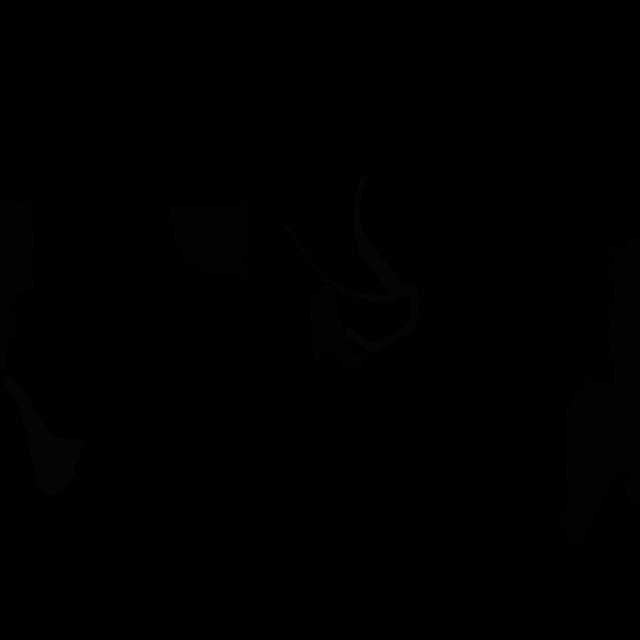cardboard: (558, 231, 640, 545), (169, 202, 250, 279), (0, 199, 35, 374), (308, 285, 366, 371)
soft_plastic: (284, 175, 420, 355), (4, 375, 86, 496)
